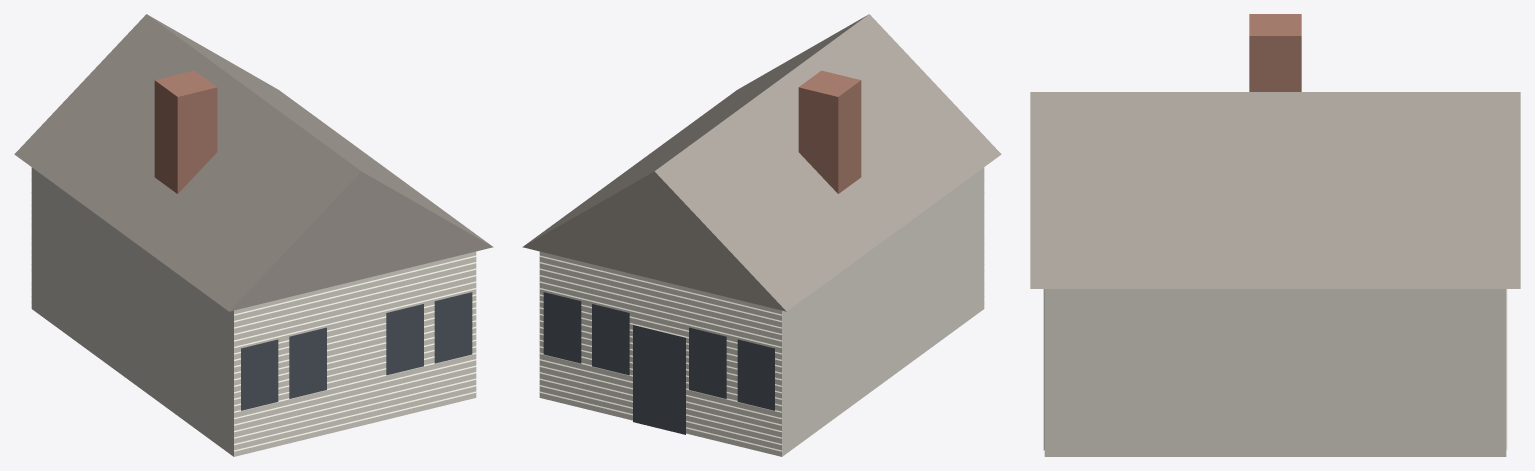
File: recon_1835_north_i2_015__inferred_1835.glb
The picture shows the model from 3 angles, left to right: view 1: azimuth 30°, elevation 25°; view 2: azimuth 150°, elevation 25°; view 3: azimuth 270°, elevation 25°; orthographic projection. The views are drawn at different scales.
Visible parts, largest first — view 1: recon_1835_north_i2_015__inferred_1835; view 2: recon_1835_north_i2_015__inferred_1835; view 3: recon_1835_north_i2_015__inferred_1835.
Boxes of the visible parts, <box> form: recon_1835_north_i2_015__inferred_1835: <box>14,14,493,456</box>; recon_1835_north_i2_015__inferred_1835: <box>522,14,1001,456</box>; recon_1835_north_i2_015__inferred_1835: <box>1030,14,1520,456</box>.
Bounding box in the file's own units: 5.99 × 6.19 × 8.43.
